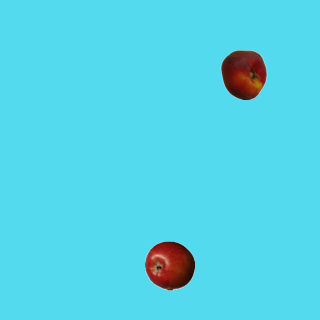Apple Braeburn: (144, 240, 194, 290)
Nectarine Flat: (218, 49, 268, 99)
